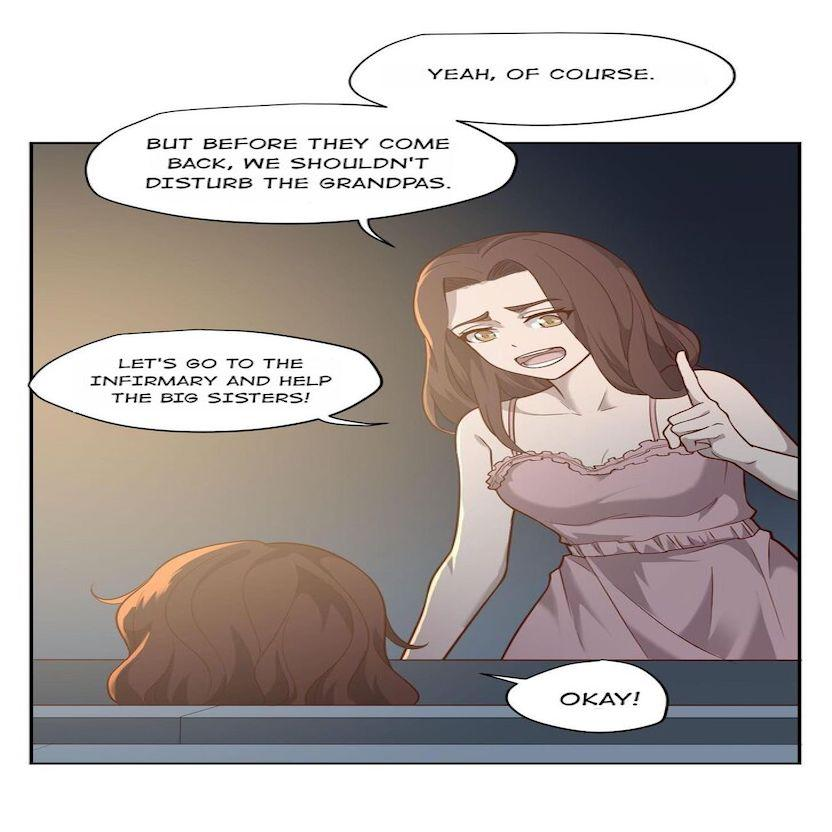Bubble: (83, 121, 520, 227), (29, 326, 385, 436), (345, 29, 739, 108), (502, 654, 669, 736)
